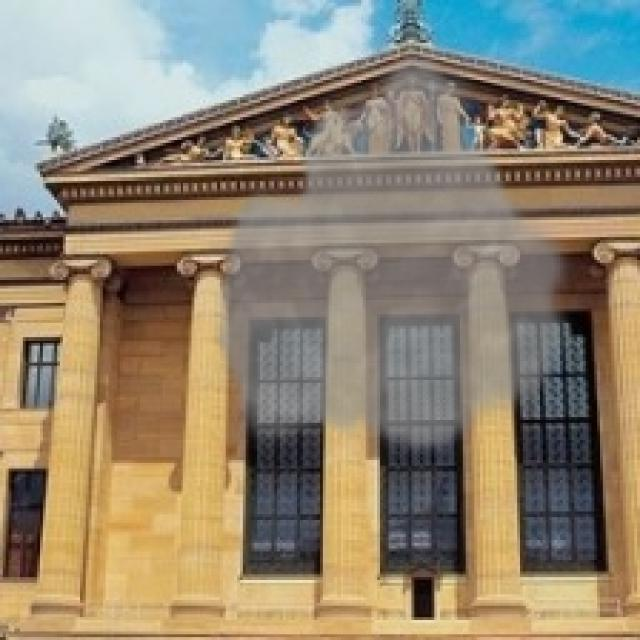Smoke: (208, 42, 580, 458)
